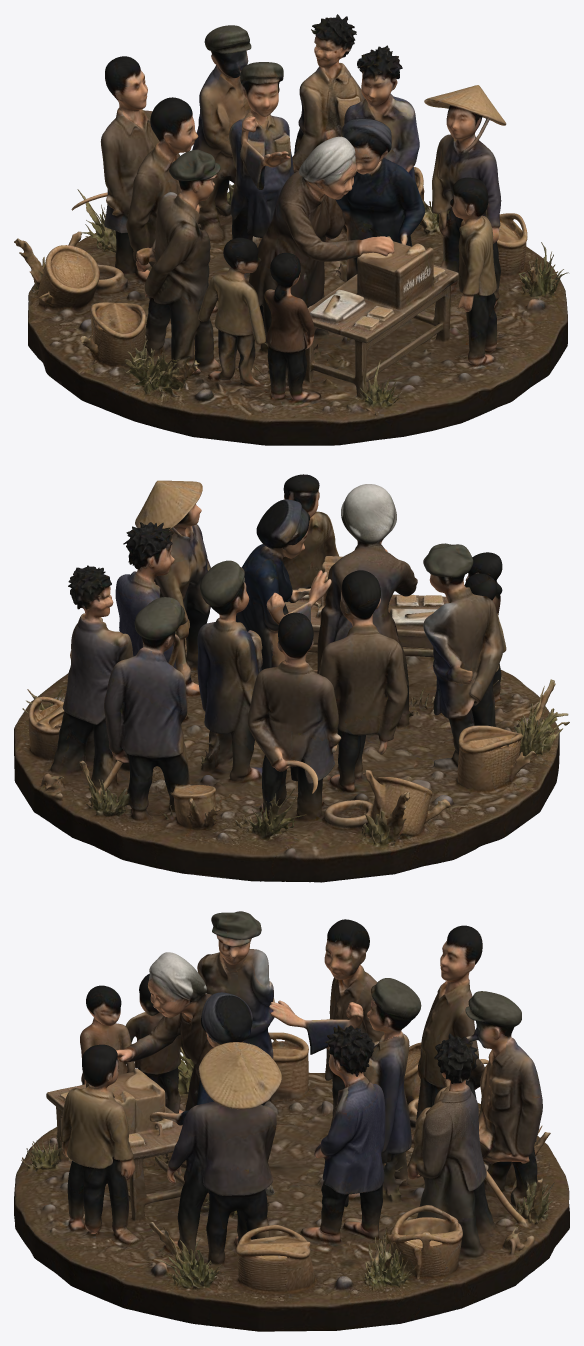
The model's file is Nhân dân làm chủ.glb.
3 renders of one model, top to bottom at view 1: azimuth 30°, elevation 25°; view 2: azimuth 150°, elevation 25°; view 3: azimuth 270°, elevation 25°, orthographic. The views are drawn at different scales.
Bounding box in the file's own units: 1.89 × 0.9313 × 1.89.
1 material, 1 textured.
